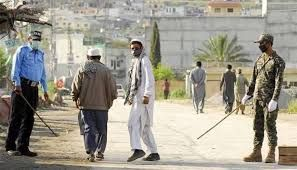uniform: (240, 29, 286, 155)
